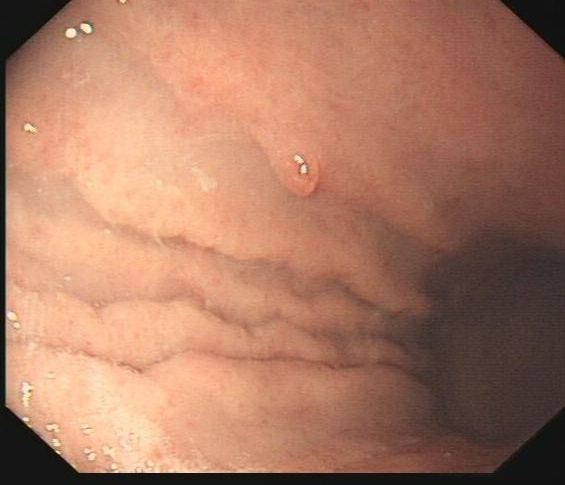Polyp: (256, 125, 337, 212)
